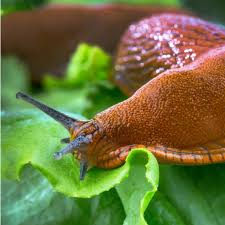slug: (62, 14, 224, 179)
